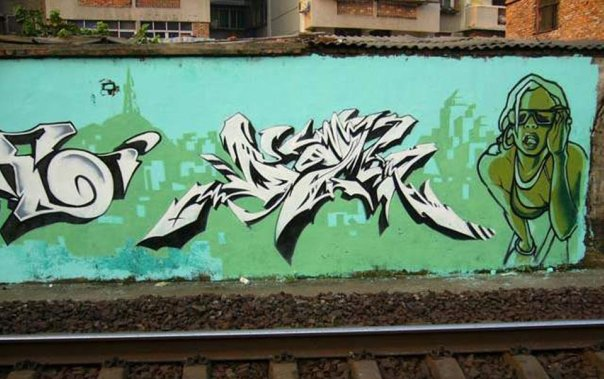graffity: (132, 106, 500, 269), (3, 58, 166, 279), (473, 64, 591, 268)
